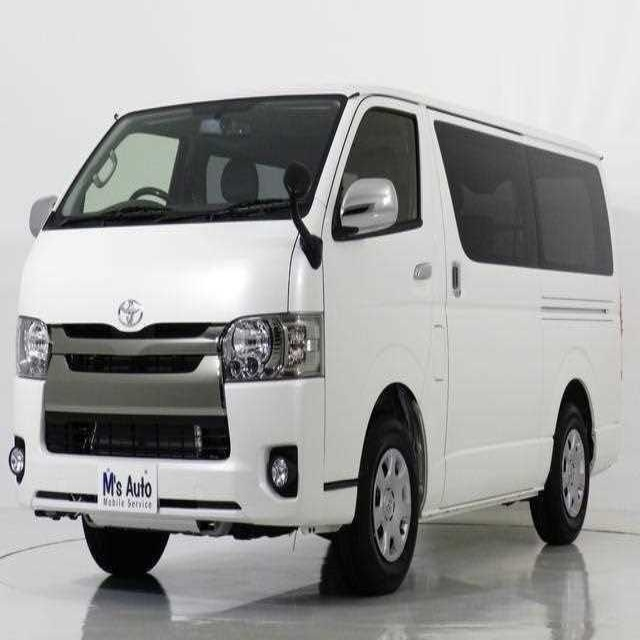Van: (7, 80, 624, 597)
